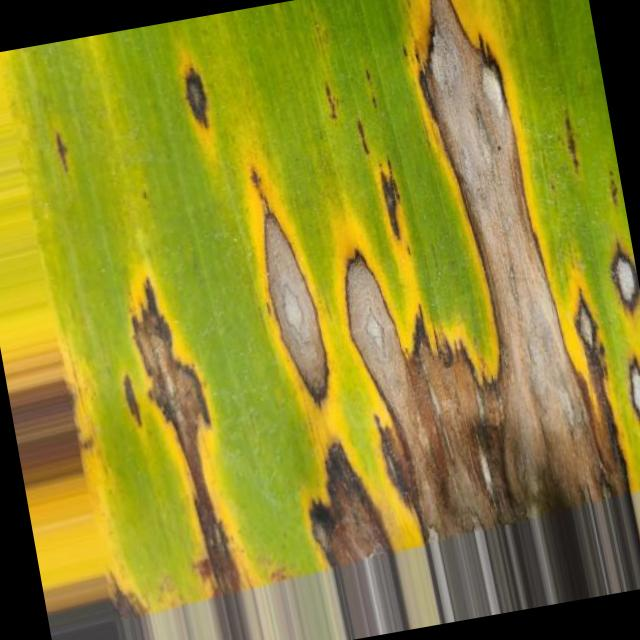Banana_Yellow_Sigatoka: (116, 174, 640, 567), (368, 0, 585, 244)
